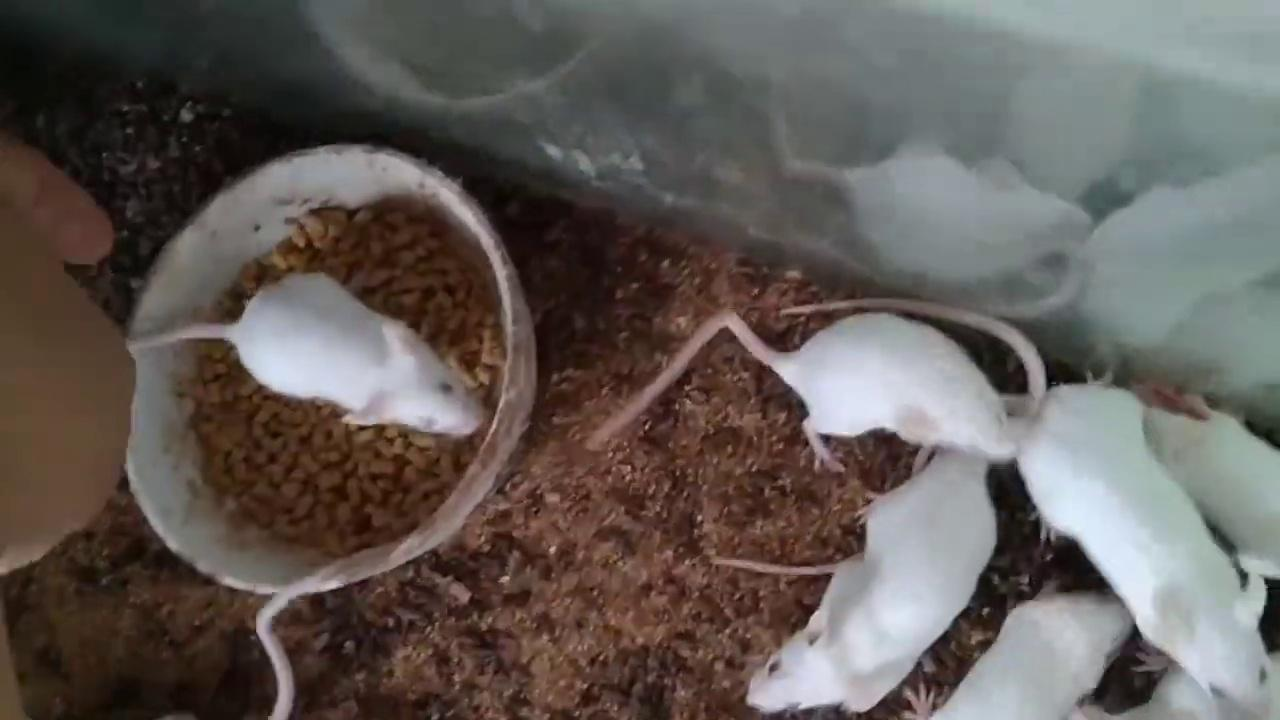rat: (1006, 382, 1270, 704), (587, 313, 1017, 470), (747, 452, 997, 708), (134, 273, 480, 433)
